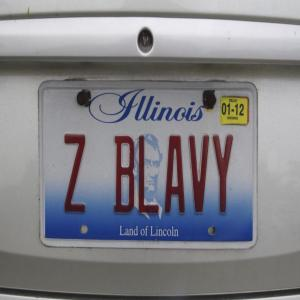Vehicle-registration-plate: (29, 77, 268, 257)
